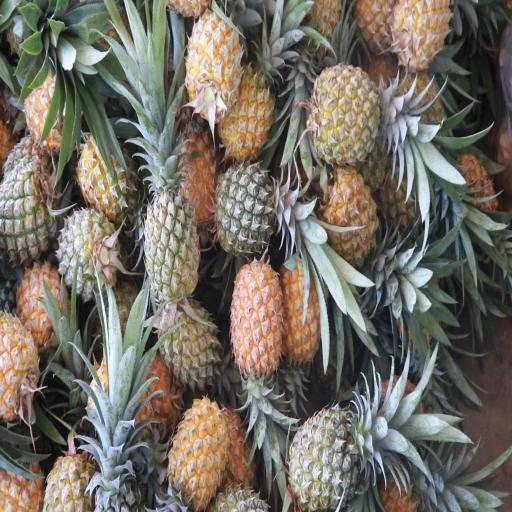------------------------------: (141, 145, 199, 296), (311, 63, 383, 167), (154, 293, 222, 393), (75, 132, 138, 229), (15, 262, 68, 360)
Pineapple - v8 v1: (162, 402, 232, 506), (229, 259, 284, 383), (185, 8, 244, 119), (219, 54, 274, 165), (280, 252, 331, 368), (327, 158, 386, 258), (166, 113, 217, 225), (394, 0, 450, 70)
